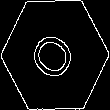O_SE: (26, 24, 84, 86)
